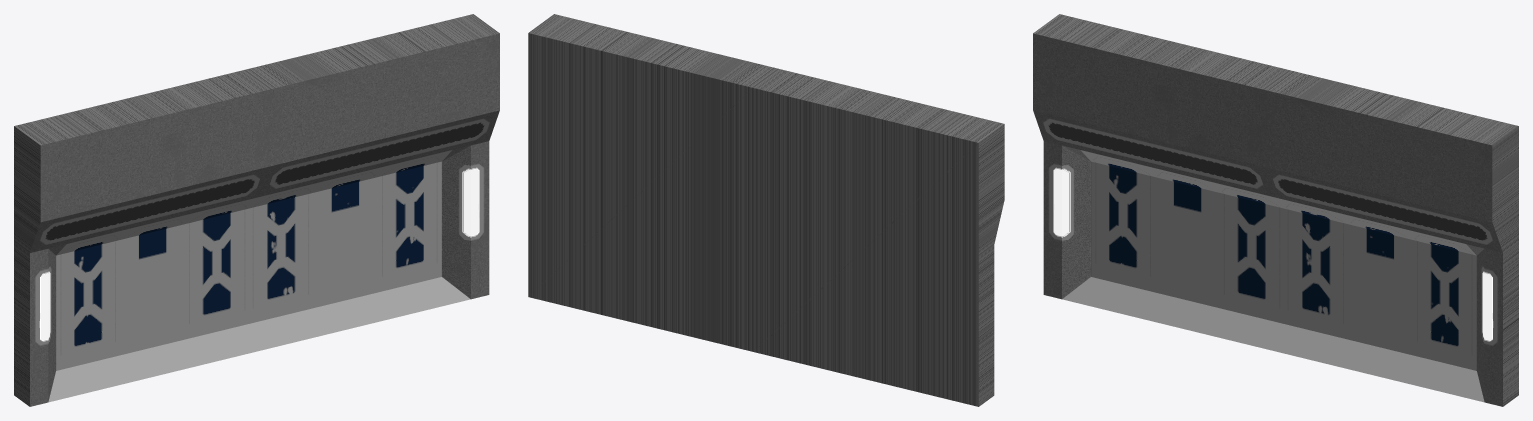
File: Arena_WallA.fbx
3 views of the same model, side by side, from view 1: azimuth 30°, elevation 25°; view 2: azimuth 150°, elevation 25°; view 3: azimuth 330°, elevation 25° (orthographic).
Visible parts, largest first — view 1: WallA_Low; view 2: WallA_Low; view 3: WallA_Low.
Part boxes in pixels (bbox=[...]): WallA_Low: bbox=[14, 14, 499, 406]; WallA_Low: bbox=[528, 14, 1004, 406]; WallA_Low: bbox=[1033, 14, 1518, 406].
Size of the model in its own units: 25 by 14 by 2.5.
